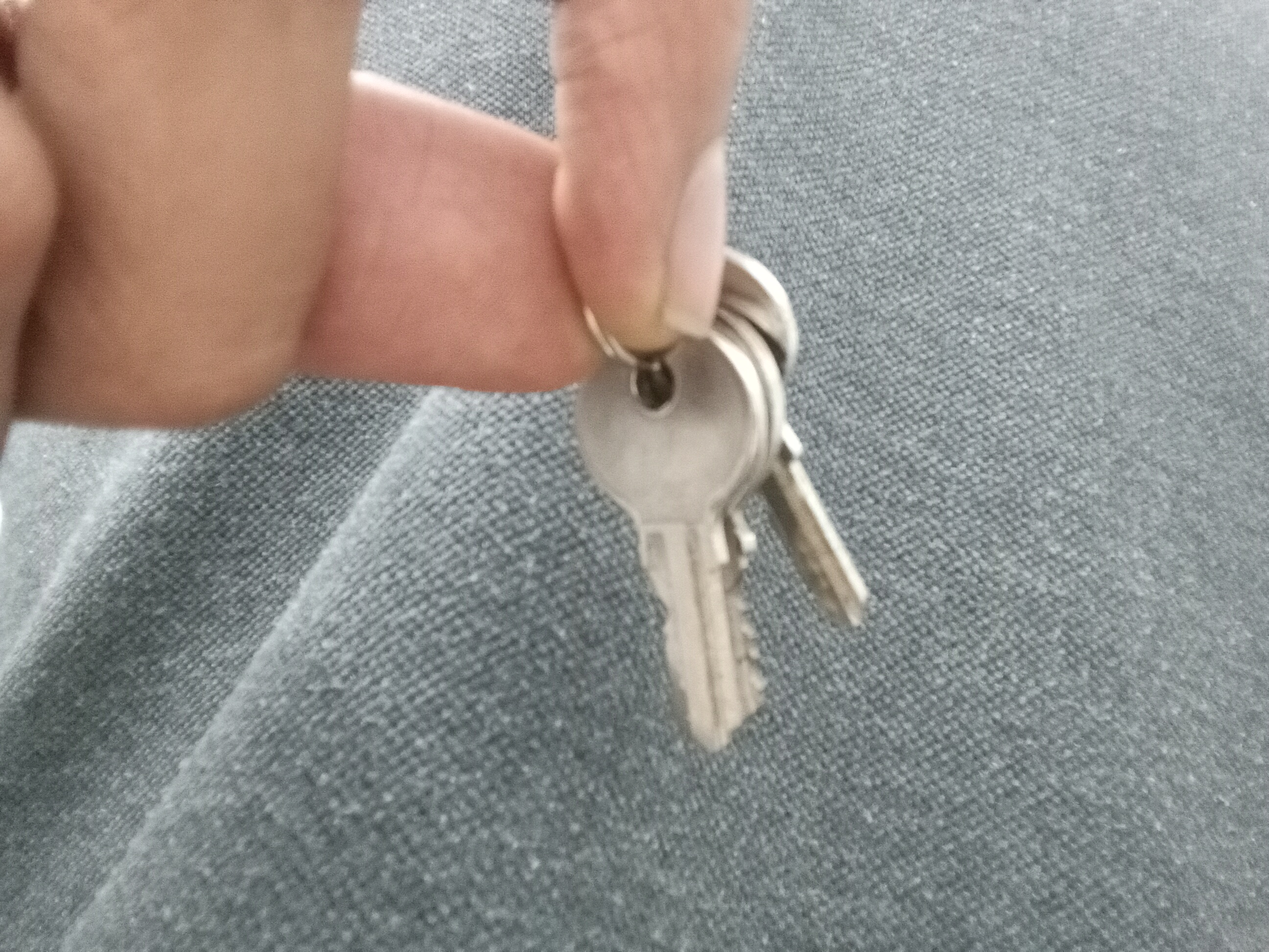Metal: (577, 247, 869, 752)
